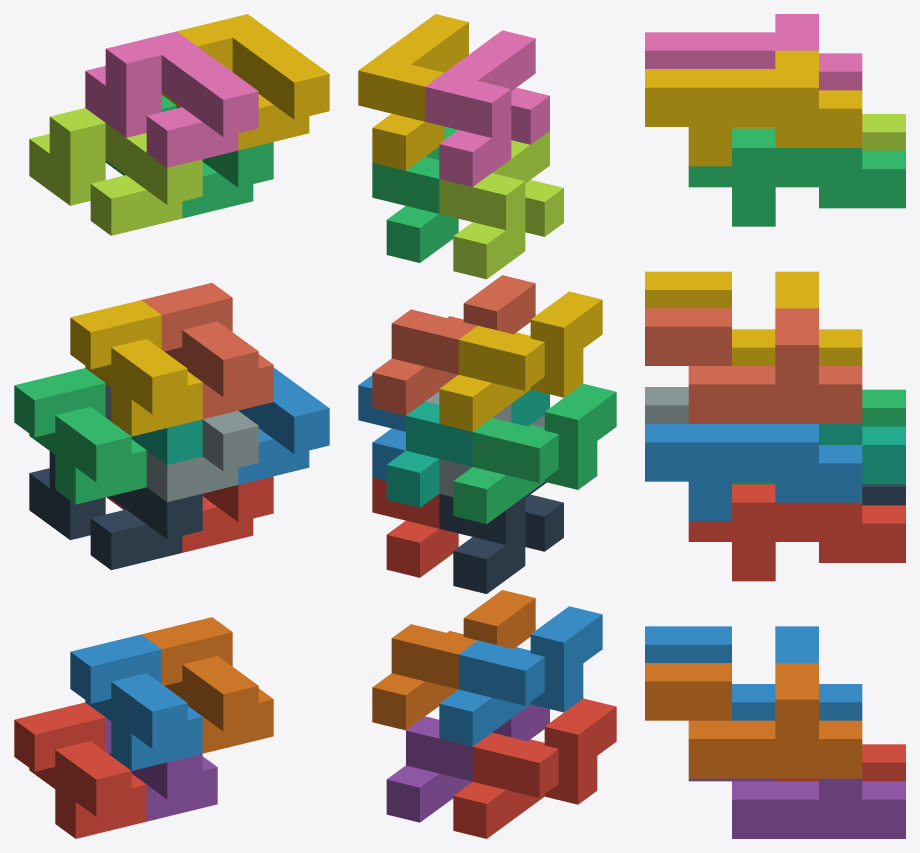
File: tiling.obj
3 renders of one model, left to right at view 1: azimuth 30°, elevation 25°; view 2: azimuth 150°, elevation 25°; view 3: azimuth 270°, elevation 25°, orthographic. The views are drawn at different scales.
Visible parts, largest first — view 1: copy_2_domain_4, copy_2_domain_3, copy_1_domain_2, copy_1_domain_1, copy_1_domain_3, copy_1_domain_4, copy_2_domain_8, copy_1_domain_8, copy_1_domain_6, copy_2_domain_1, copy_2_domain_2, copy_2_domain_6 (+4 smaller); view 2: copy_2_domain_4, copy_1_domain_1, copy_1_domain_3, copy_1_domain_2, copy_1_domain_4, copy_2_domain_3, copy_1_domain_8, copy_1_domain_6, copy_2_domain_8, copy_2_domain_1, copy_1_domain_5, copy_1_domain_7 (+4 smaller); view 3: copy_1_domain_6, copy_1_domain_8, copy_2_domain_8, copy_2_domain_6, copy_2_domain_7, copy_2_domain_5, copy_1_domain_5, copy_1_domain_4, copy_2_domain_4, copy_1_domain_2, copy_1_domain_7, copy_1_domain_1 (+4 smaller).
Boxes of the visible parts, left/top/right/bottom form: copy_2_domain_4: left=85, top=31, right=258, bottom=167; copy_2_domain_3: left=29, top=108, right=202, bottom=235; copy_1_domain_2: left=70, top=634, right=202, bottom=770; copy_1_domain_1: left=14, top=702, right=146, bottom=838; copy_1_domain_3: left=14, top=368, right=146, bottom=504; copy_1_domain_4: left=70, top=300, right=202, bottom=436; copy_2_domain_8: left=161, top=14, right=329, bottom=150; copy_1_domain_8: left=141, top=283, right=273, bottom=419; copy_1_domain_6: left=141, top=617, right=273, bottom=753; copy_2_domain_1: left=29, top=451, right=202, bottom=570; copy_2_domain_2: left=105, top=383, right=258, bottom=502; copy_2_domain_6: left=238, top=367, right=329, bottom=484; copy_2_domain_4: left=425, top=30, right=549, bottom=186; copy_1_domain_1: left=453, top=698, right=616, bottom=838; copy_1_domain_3: left=453, top=383, right=616, bottom=523; copy_1_domain_2: left=439, top=606, right=602, bottom=746; copy_1_domain_4: left=439, top=291, right=602, bottom=431; copy_2_domain_3: left=439, top=131, right=563, bottom=279; copy_1_domain_8: left=372, top=275, right=535, bottom=415; copy_1_domain_6: left=372, top=590, right=535, bottom=730; copy_2_domain_8: left=358, top=14, right=468, bottom=170; copy_2_domain_1: left=439, top=482, right=563, bottom=593; copy_1_domain_5: left=386, top=704, right=549, bottom=822; copy_1_domain_7: left=386, top=389, right=549, bottom=507; copy_1_domain_6: left=645, top=663, right=862, bottom=778; copy_1_domain_8: left=645, top=308, right=862, bottom=423; copy_2_domain_8: left=645, top=50, right=862, bottom=166; copy_2_domain_6: left=645, top=424, right=862, bottom=520; copy_2_domain_7: left=688, top=129, right=905, bottom=226; copy_2_domain_5: left=688, top=484, right=905, bottom=581; copy_1_domain_5: left=688, top=778, right=905, bottom=838; copy_1_domain_4: left=645, top=271, right=862, bottom=365; copy_2_domain_4: left=645, top=14, right=862, bottom=90; copy_1_domain_2: left=645, top=626, right=862, bottom=720; copy_1_domain_7: left=732, top=424, right=905, bottom=484; copy_1_domain_1: left=775, top=744, right=905, bottom=781.
Size of the model in its own units: 6 by 20 by 6.
